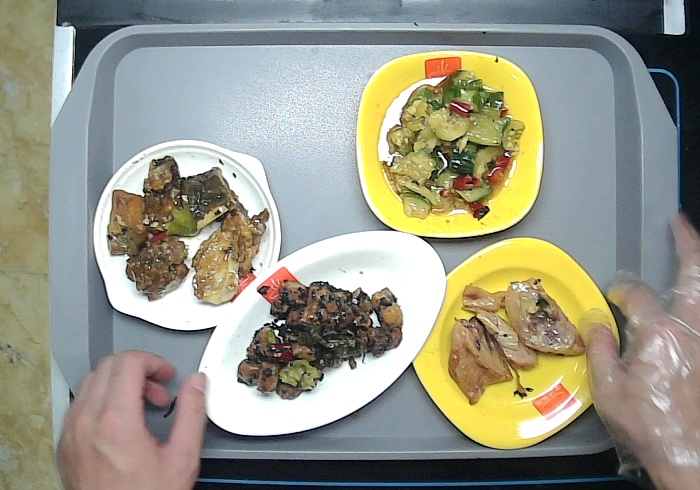SHKJ-Bao_Yu_Pan: (89, 138, 281, 332)
SHKJ-Huang_Se_Cai_Die: (352, 48, 544, 241)
SHKJ-Huang_Se_Si_Fang_Cai_Die: (411, 234, 623, 450)
SHKJ-Yu_Pan: (194, 228, 449, 439)
